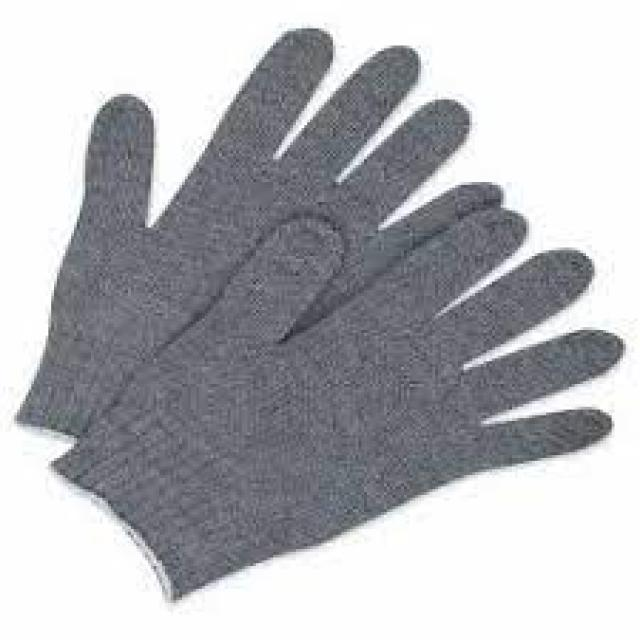Clothes -Biodegradable-: (13, 25, 623, 604)
